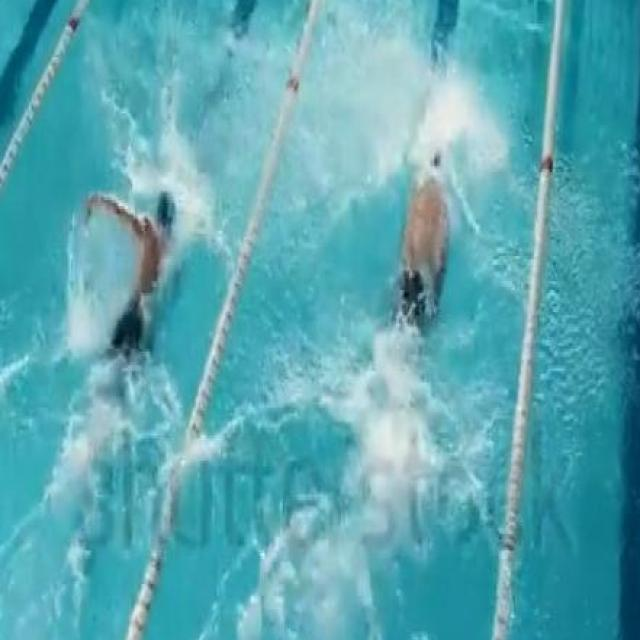Swimming: (82, 181, 183, 363), (393, 126, 460, 333)
